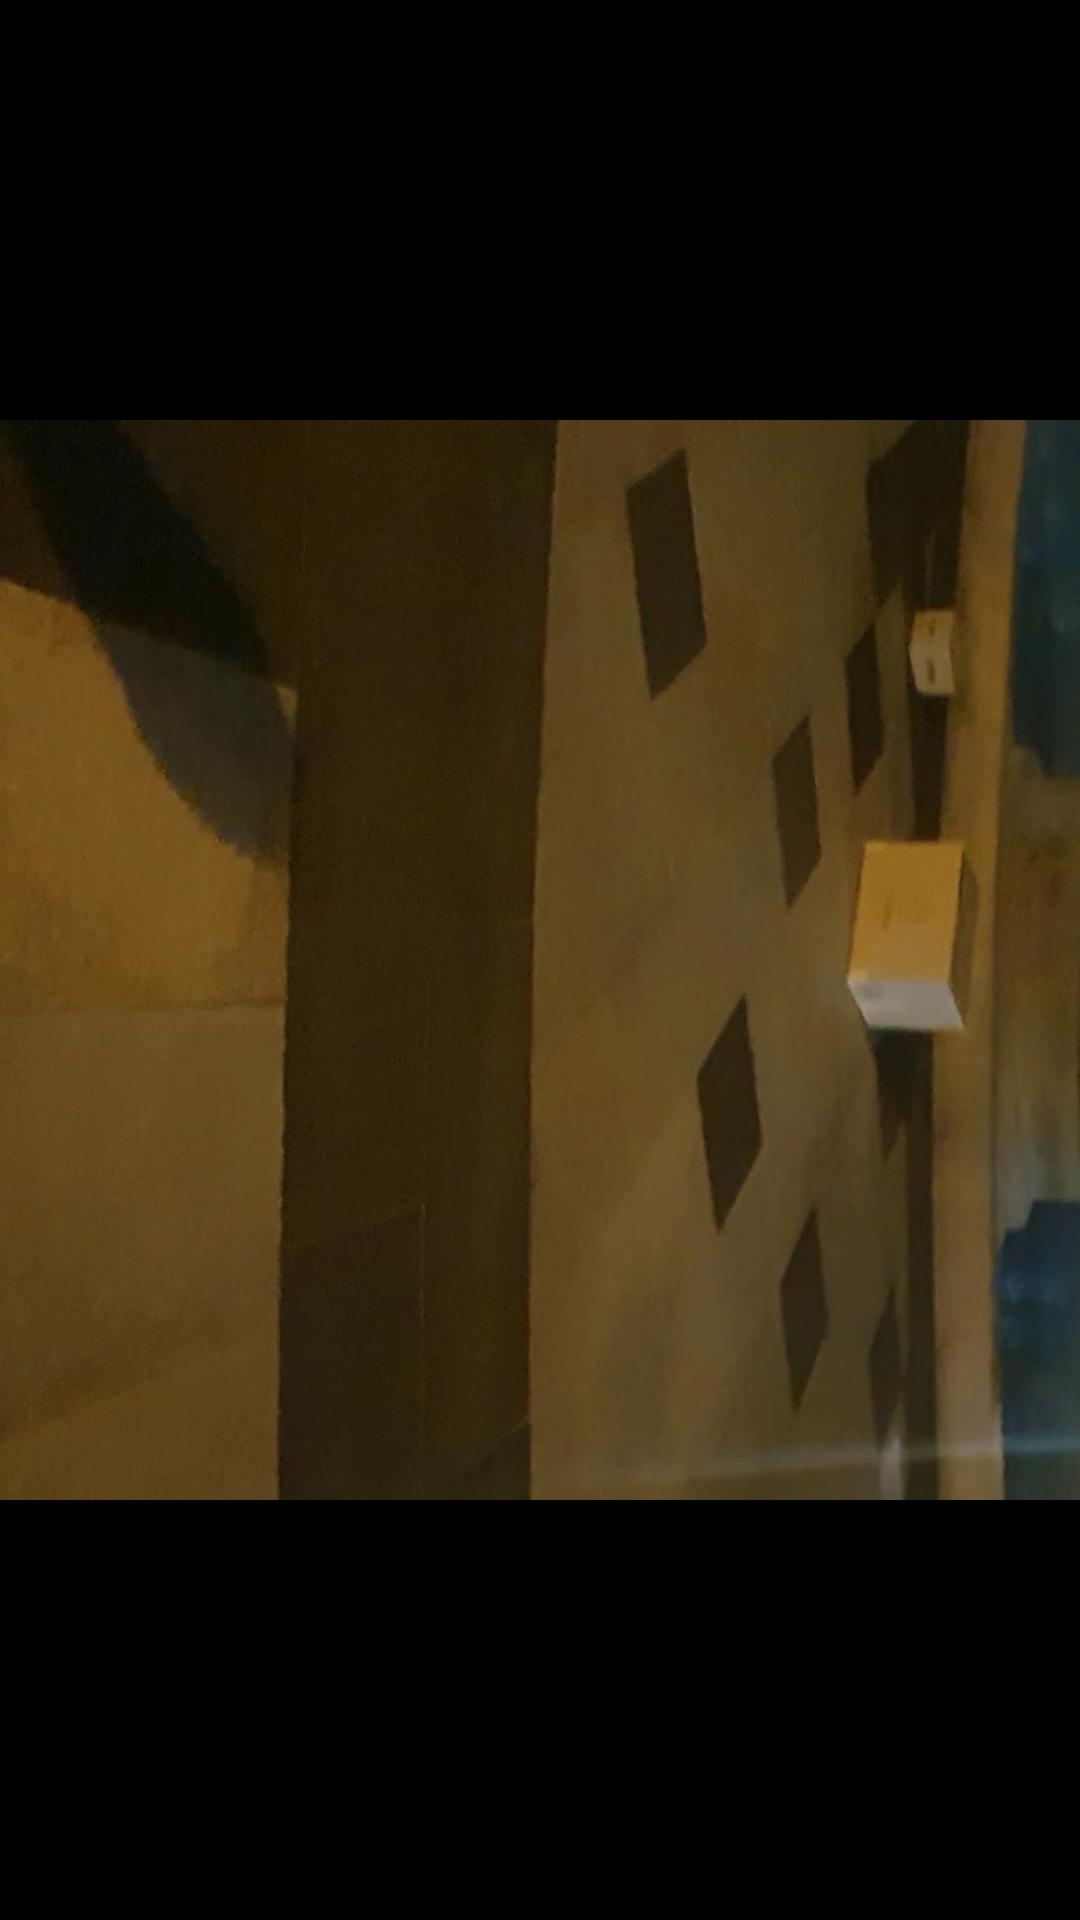Box: (835, 843, 982, 1036), (897, 588, 977, 705)
